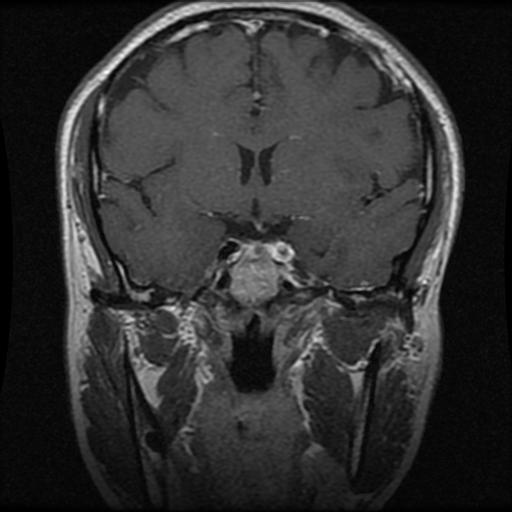Pituirity_tumour: (241, 243, 273, 259)
